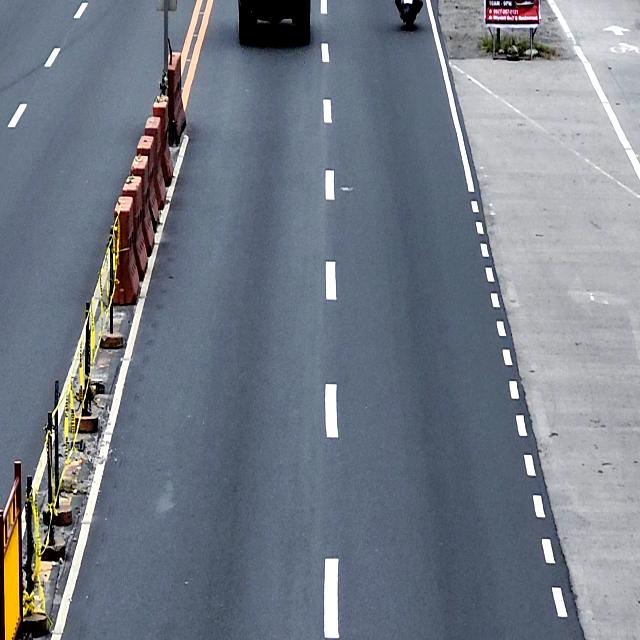Car: (237, 0, 310, 43)
Motorcycle: (395, 0, 423, 30)
